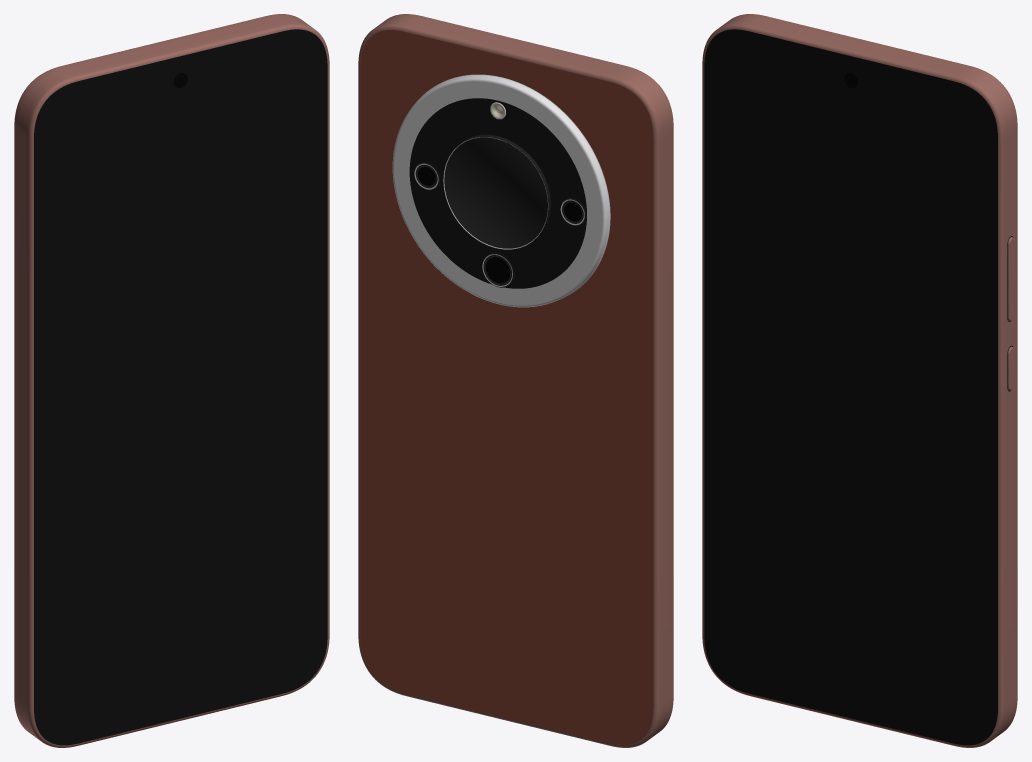
File: honor-x9d.glb
The picture shows the model from 3 angles, left to right: view 1: azimuth 30°, elevation 25°; view 2: azimuth 150°, elevation 25°; view 3: azimuth 330°, elevation 25°; orthographic projection.
Parts seen in each view (by area): view 1: body; view 2: body, camera; view 3: body, buttons.
Part boxes in pixels (bbox=[...]): body: bbox=[14, 14, 329, 747]; body: bbox=[358, 14, 673, 747]; camera: bbox=[392, 74, 610, 307]; body: bbox=[702, 14, 1017, 747]; buttons: bbox=[1007, 236, 1014, 391].
Size of the model in its own units: 76.53 by 162 by 10.86.
